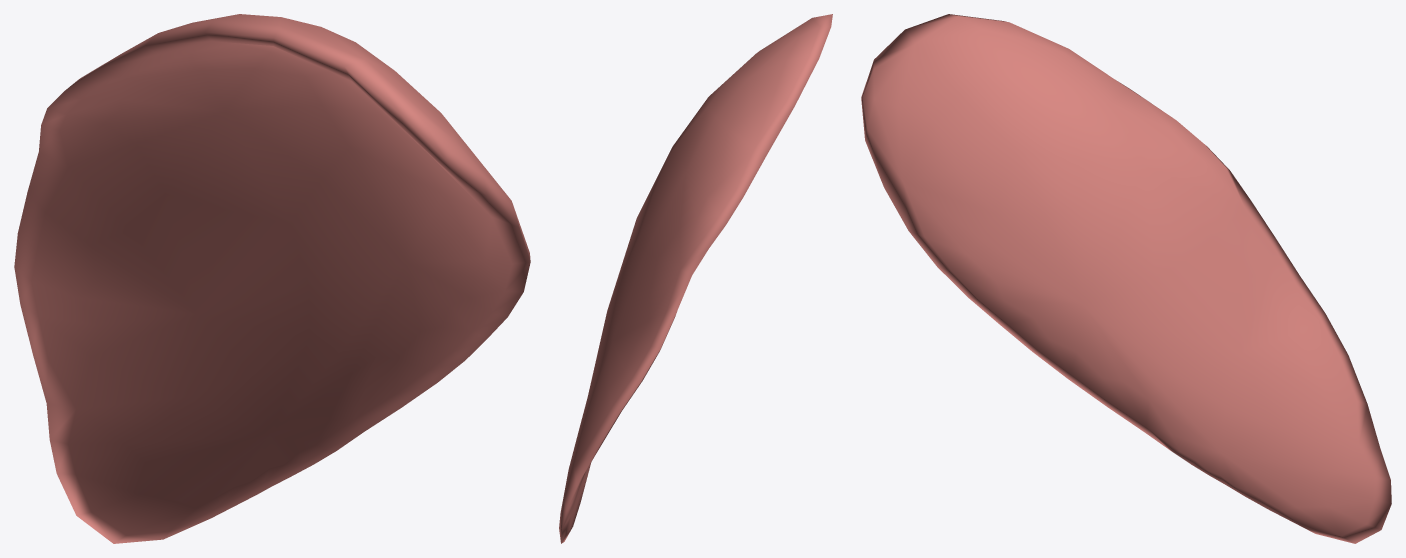
The picture shows the model from 3 angles, left to right: view 1: azimuth 30°, elevation 25°; view 2: azimuth 150°, elevation 25°; view 3: azimuth 270°, elevation 25°; orthographic projection. The views are drawn at different scales.
Parts seen in each view (by area): view 1: ZA_bd5226d194251fe1; view 2: ZA_bd5226d194251fe1; view 3: ZA_bd5226d194251fe1.
Part boxes in pixels (x1,y1,x2,y2): ZA_bd5226d194251fe1: (14, 14, 530, 543); ZA_bd5226d194251fe1: (559, 14, 832, 543); ZA_bd5226d194251fe1: (861, 14, 1391, 543).
Size of the model in its own units: 0.00546 by 0.0136 by 0.0137.
